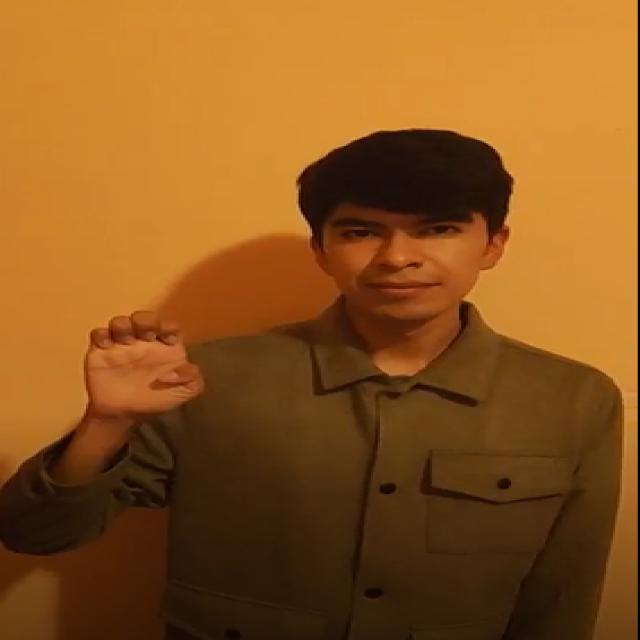E: (59, 284, 218, 428)
